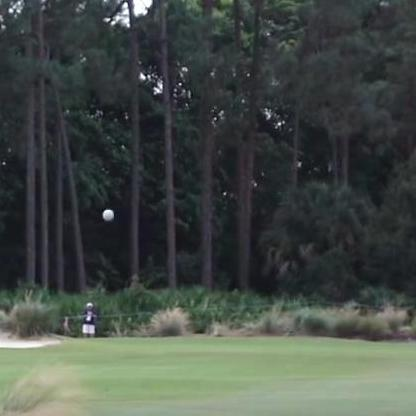golfball: (99, 208, 113, 221)
